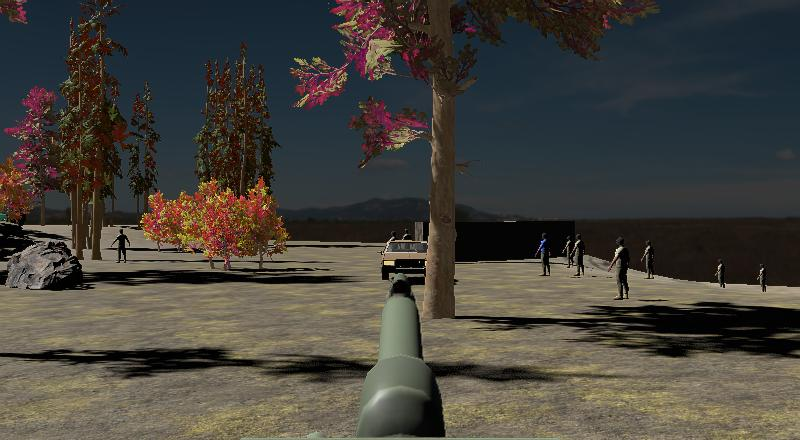Human: (607, 235, 631, 301), (535, 231, 553, 278), (111, 227, 131, 264), (571, 232, 587, 278)
car: (379, 237, 436, 281)
